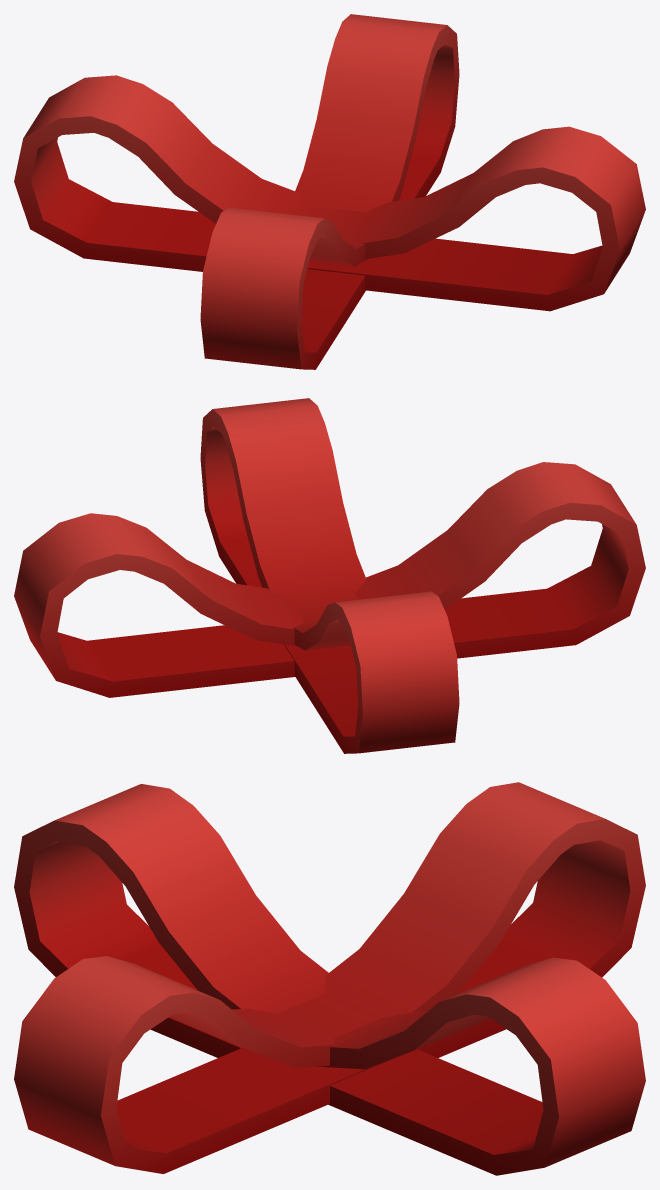
Rendered from bow_001.fbx.
The picture shows the model from 3 angles, top to bottom: view 1: azimuth 30°, elevation 25°; view 2: azimuth 150°, elevation 25°; view 3: azimuth 270°, elevation 25°; orthographic projection. The views are drawn at different scales.
Visible parts, largest first — view 1: bow_001; view 2: bow_001; view 3: bow_001.
Boxes of the visible parts, x1,y1,x2,y2 form: bow_001: [14, 14, 645, 369]; bow_001: [14, 398, 645, 753]; bow_001: [14, 782, 645, 1175].
Size of the model in its own units: 167 by 167 by 51.72.
